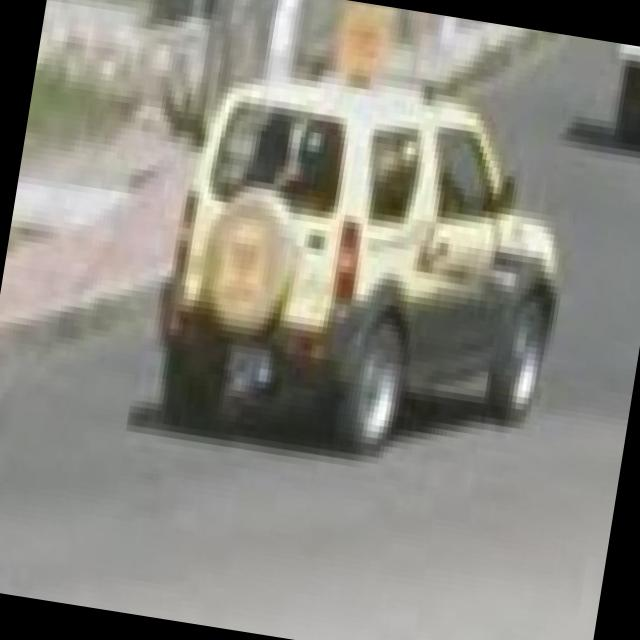car: (144, 50, 586, 478)
